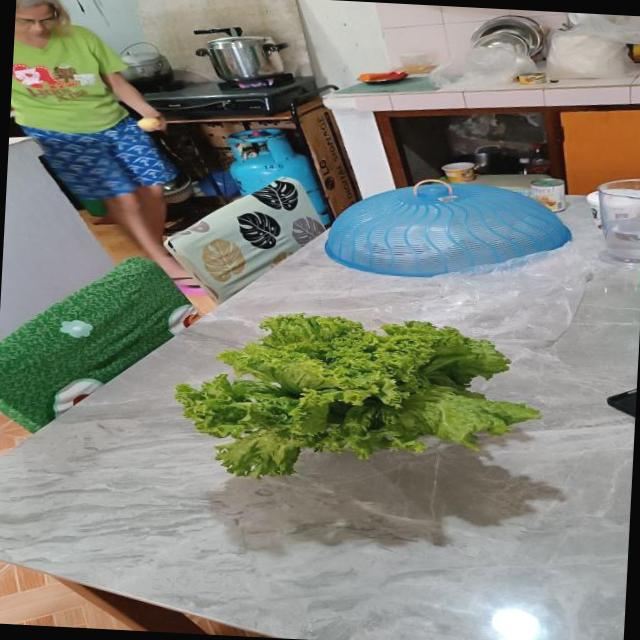Lettuce-Ready-to-Harvest: (176, 315, 539, 477)
